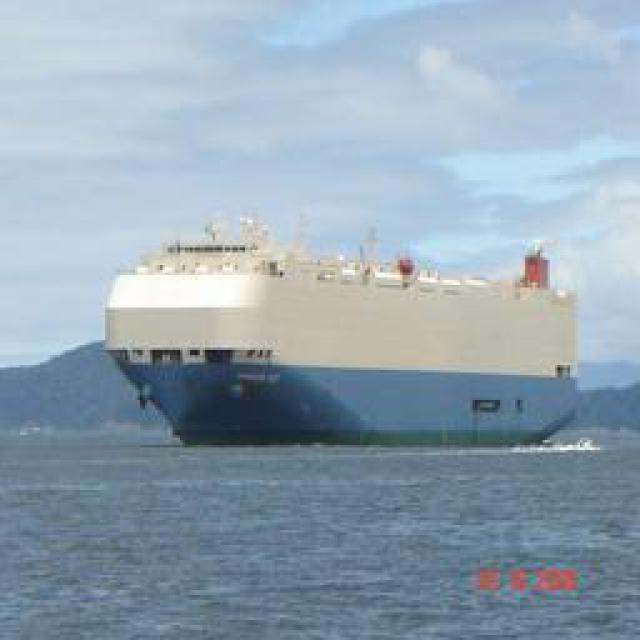Ship: (106, 225, 599, 445)
